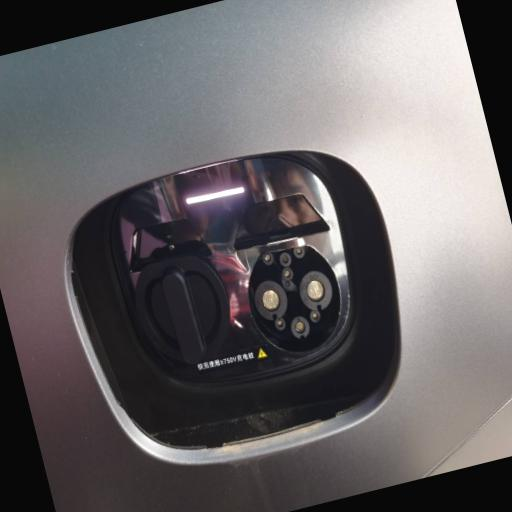DC_hole: (294, 267, 338, 317), (250, 276, 293, 326)
PE: (288, 313, 314, 342)
charging_port: (236, 234, 355, 365)
